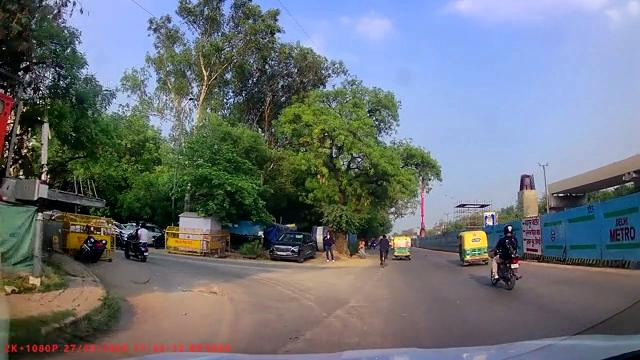motorcycle_with_helmet: (489, 225, 524, 291)
